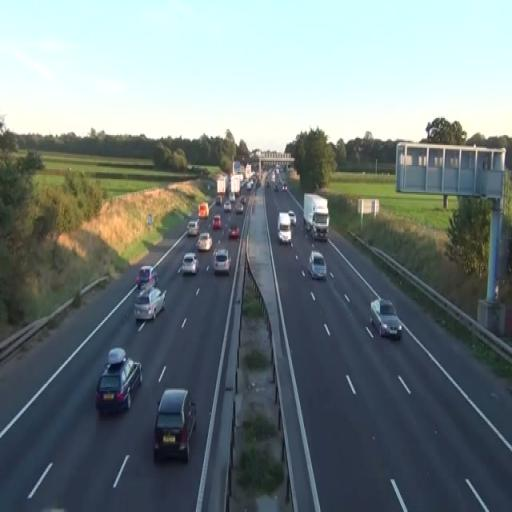Car: (95, 346, 143, 416), (153, 388, 197, 464), (370, 296, 402, 340), (134, 285, 167, 322), (308, 250, 326, 280), (212, 248, 231, 275), (277, 212, 292, 245), (179, 252, 199, 276), (196, 232, 212, 252), (186, 219, 200, 238), (228, 226, 240, 240), (212, 214, 222, 230)
Truck: (303, 193, 330, 241)
